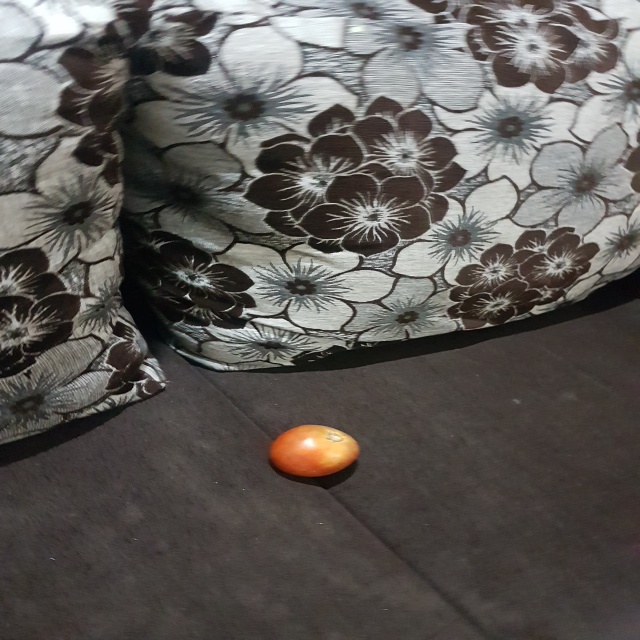tomato: (264, 422, 365, 479)
